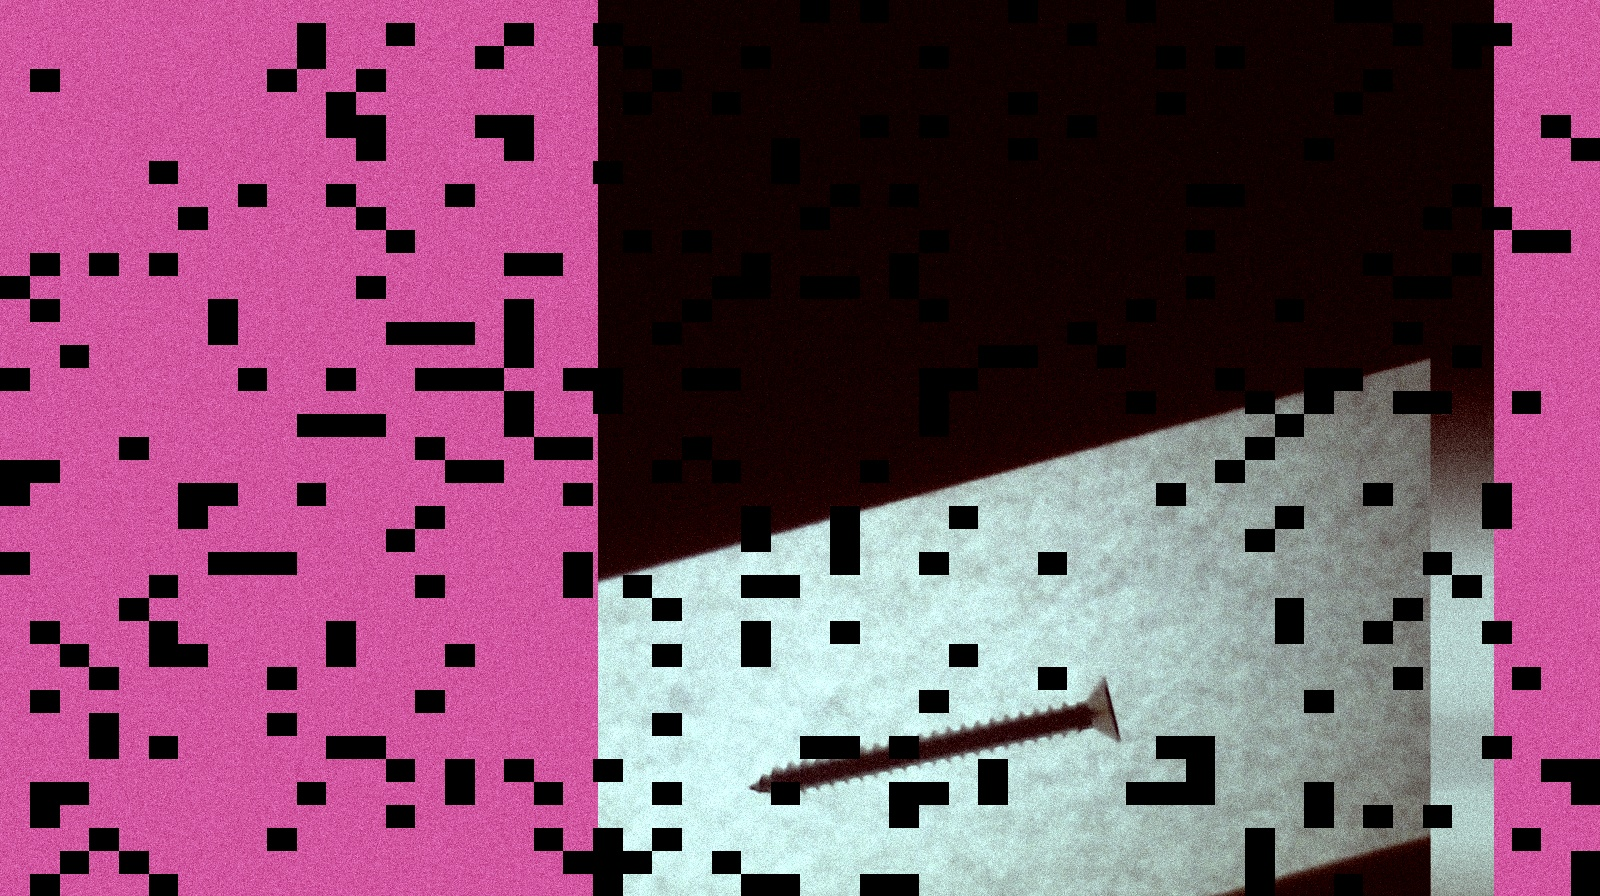S002: (749, 668, 1127, 807)
